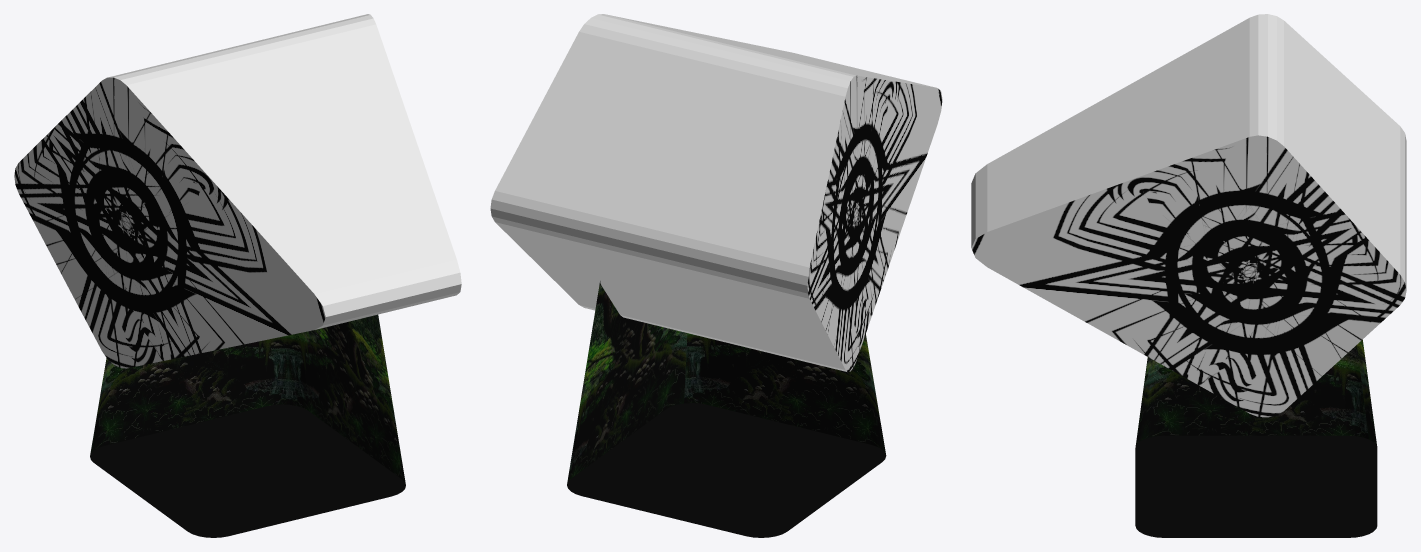
File: k-tabling.glb
3 views of the same model, side by side, from view 1: azimuth 30°, elevation 25°; view 2: azimuth 150°, elevation 25°; view 3: azimuth 270°, elevation 25° (orthographic). The views are drawn at different scales.
Parts seen in each view (by area): view 1: peterBASE.head, peterBASE.torso; view 2: peterBASE.head, peterBASE.torso; view 3: peterBASE.head, peterBASE.torso.
Part boxes in pixels (x1,y1,x2,y2): peterBASE.head: [14, 14, 461, 368]; peterBASE.torso: [90, 314, 405, 537]; peterBASE.head: [490, 14, 942, 372]; peterBASE.torso: [567, 281, 886, 537]; peterBASE.head: [971, 14, 1406, 417]; peterBASE.torso: [1135, 339, 1377, 537].
Size of the model in its own units: 0.039 by 0.05 by 0.0478.
3 materials, 2 textured.
